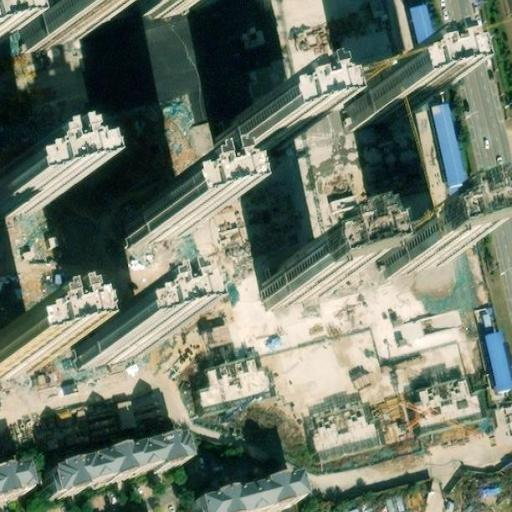building: (40, 435, 180, 503), (73, 310, 153, 367), (170, 475, 288, 512), (198, 358, 276, 413), (207, 113, 279, 171), (311, 407, 382, 464), (413, 378, 483, 434), (256, 259, 327, 312), (372, 228, 444, 279), (16, 0, 84, 53), (338, 85, 404, 138), (116, 188, 180, 241), (404, 4, 444, 85), (431, 101, 469, 184), (485, 338, 512, 401), (142, 0, 221, 19), (330, 495, 405, 512), (0, 469, 29, 501)
